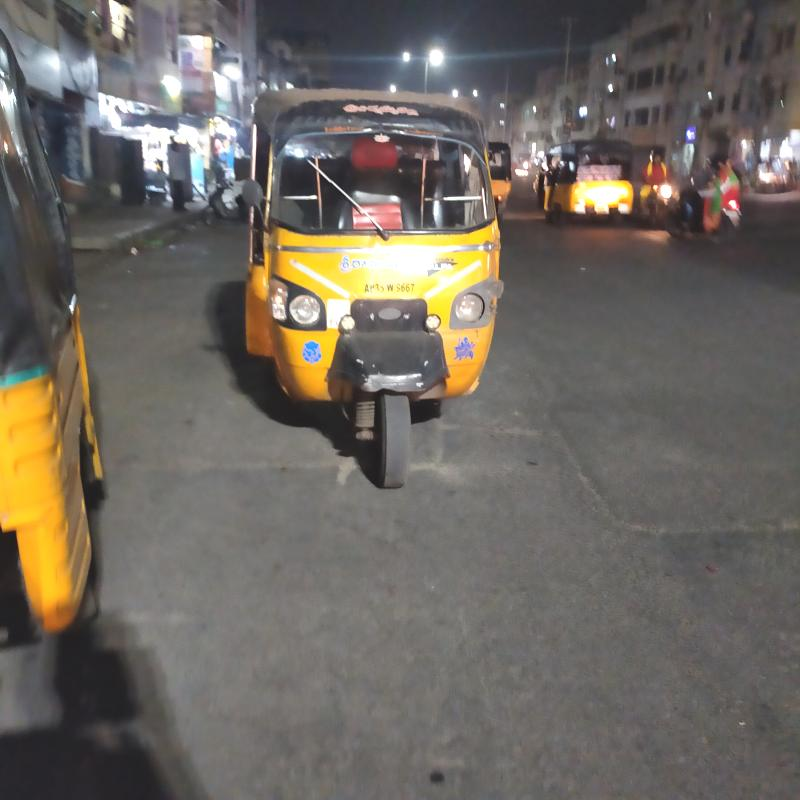auto: (250, 75, 487, 475)
